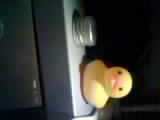duck: (77, 49, 129, 105)
